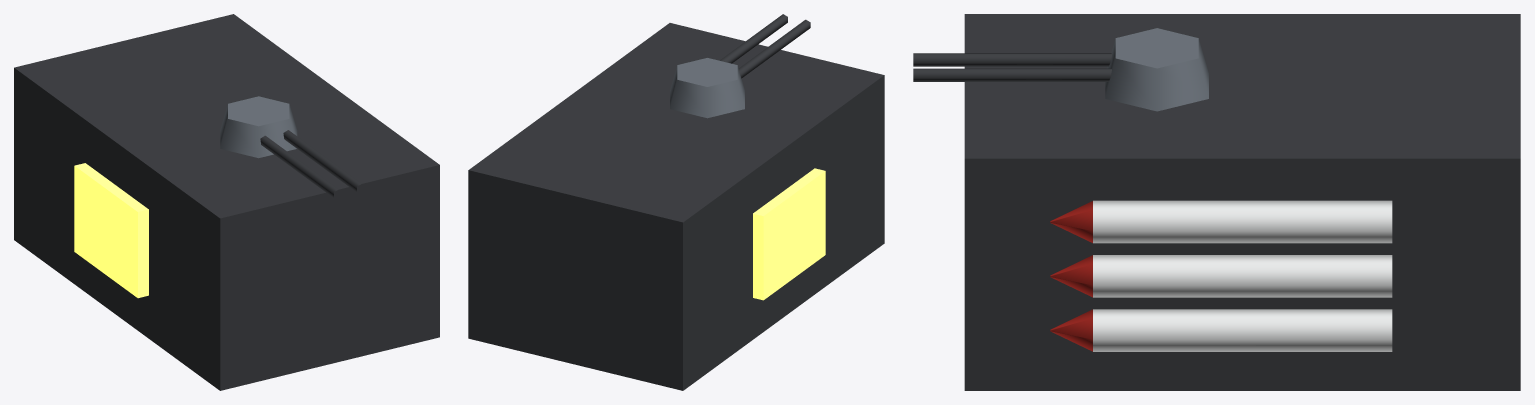
Rendered from space_orbital_arsenal_t1_lod2.glb.
3 renders of one model, left to right at view 1: azimuth 30°, elevation 25°; view 2: azimuth 150°, elevation 25°; view 3: azimuth 270°, elevation 25°, orthographic. The views are drawn at different scales.
Parts seen in each view (by area): view 1: body, turret_0; view 2: body, turret_0; view 3: body, turret_0.
Part boxes in pixels (x1,y1,x2,y2): body: (14,14,439,390); turret_0: (220,96,364,198); body: (468,23,884,390); turret_0: (670,14,810,118); body: (964,14,1520,390); turret_0: (913,28,1208,111).
Size of the model in its own units: 9.2 by 6.98 by 14.2.
